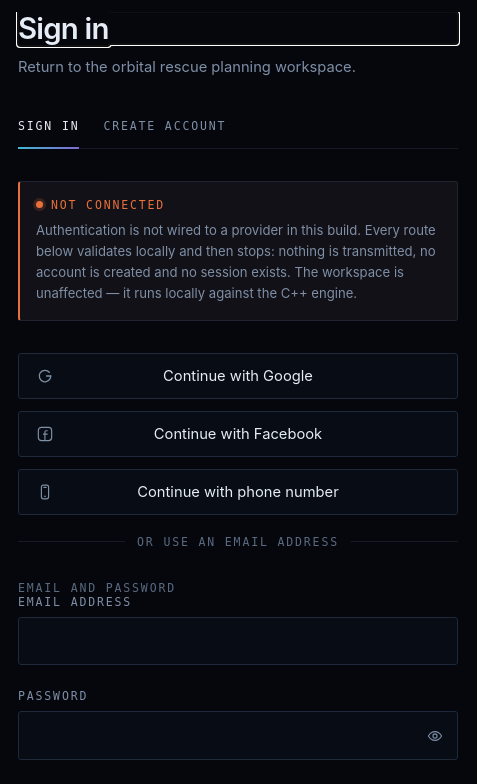
AuthForm: the phone route › validates the number against E.164 before it would send anything
The image size is (477, 784).
Click the button "Continue with phone number" at (238, 492), box [18,469,458,515]
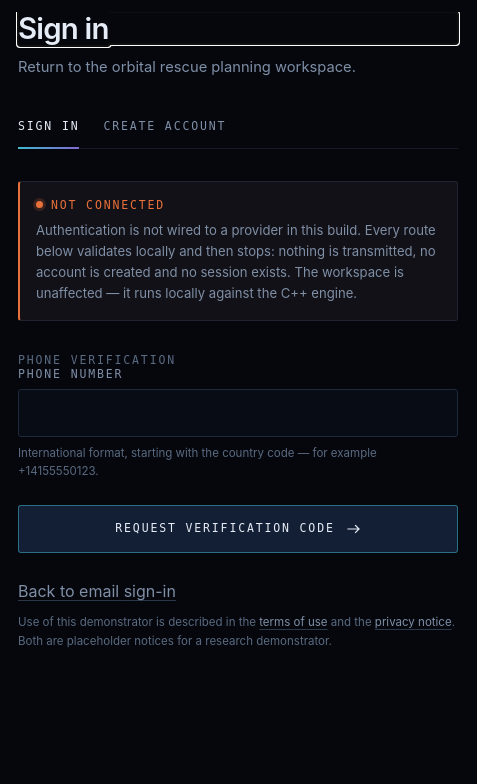
Type "4155550123" into the field labelled "Phone number" at (238, 413), box [18,389,458,437]
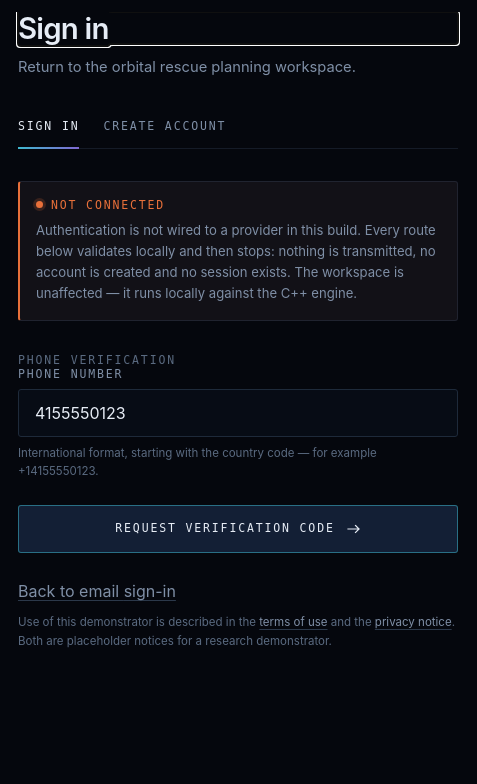
Click the button "Request verification code" at (238, 529), box [18,505,458,553]
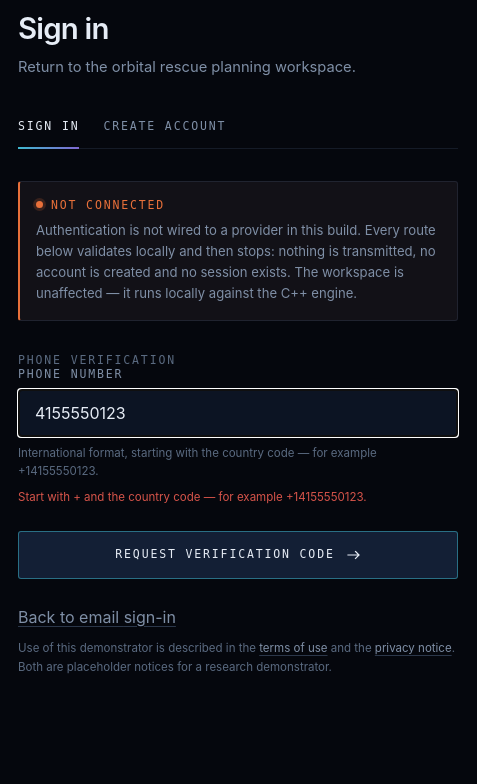
expect the text "Start with + and the country code" is shown: met, box [18,490,367,504]
